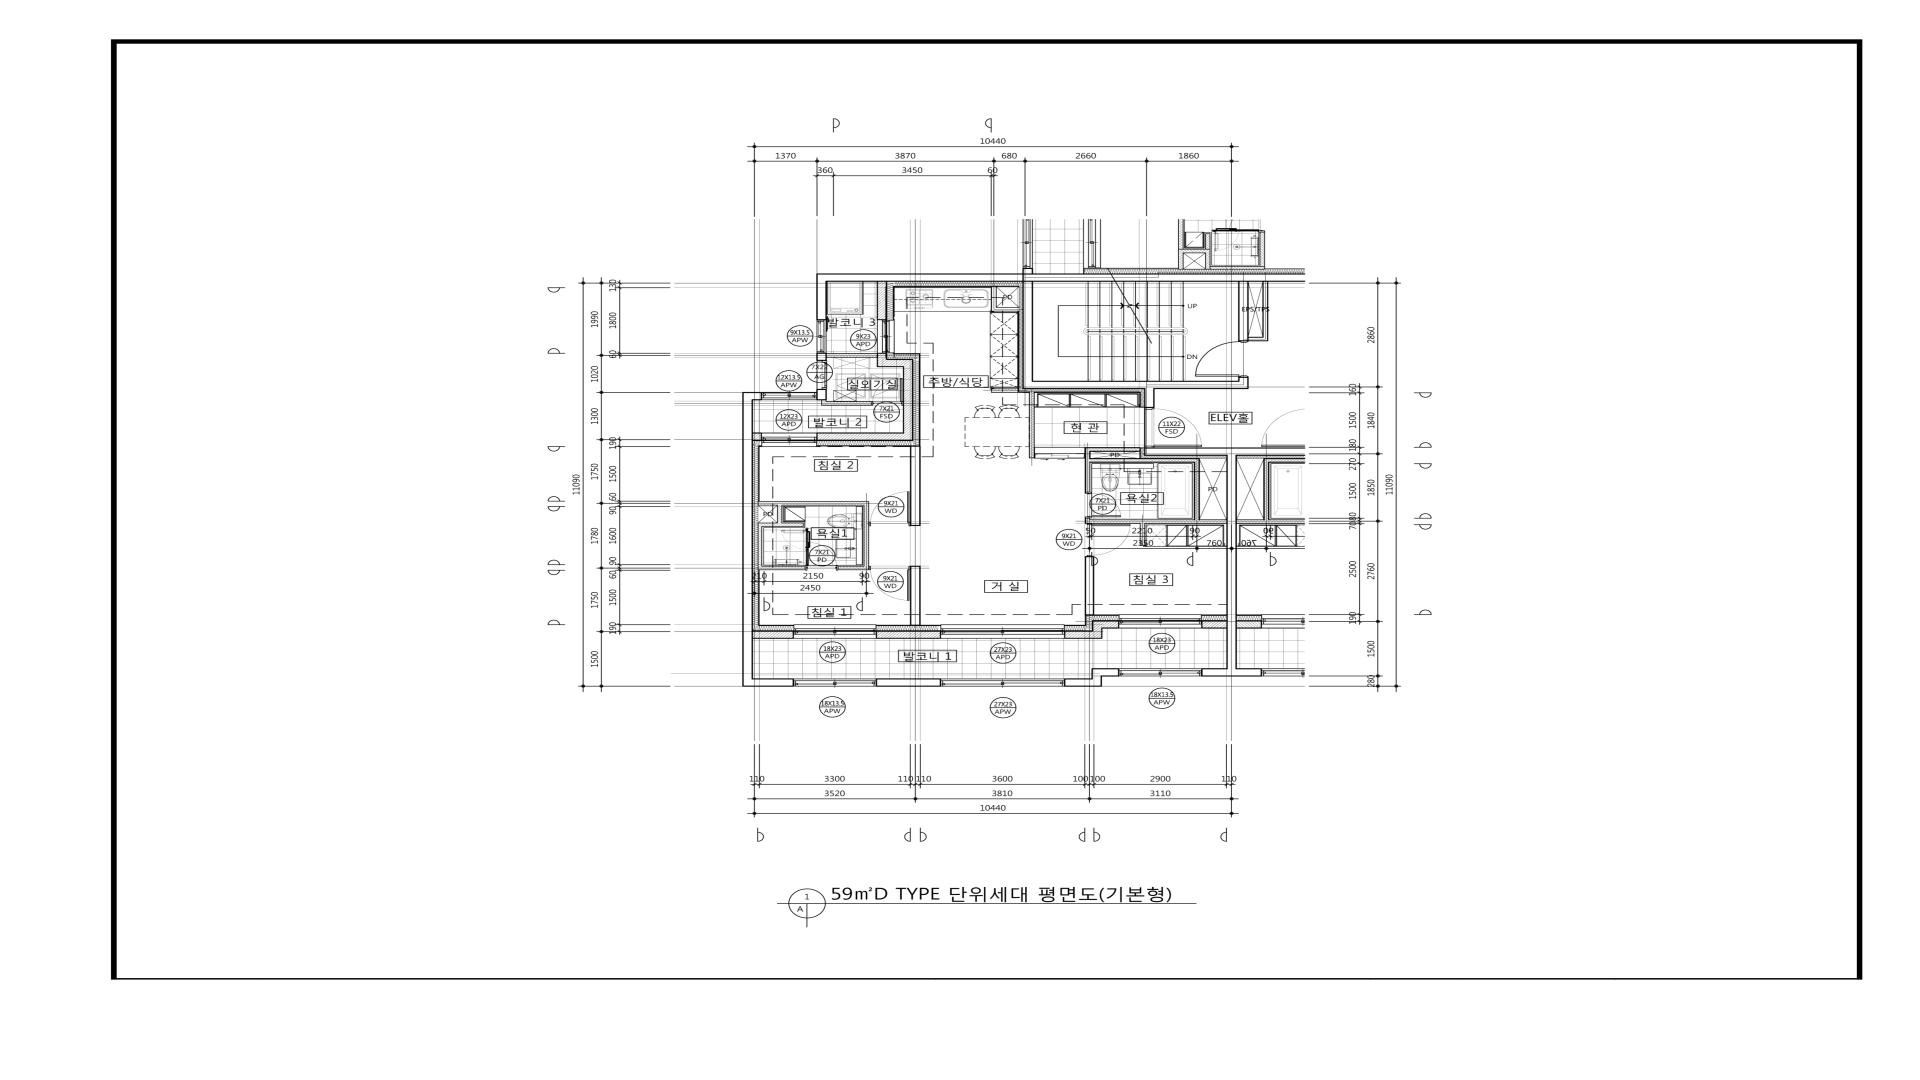door: (1145, 407, 1203, 447), (1195, 342, 1249, 377), (868, 566, 910, 601), (1087, 524, 1131, 556), (869, 492, 910, 526), (806, 542, 839, 571), (1085, 492, 1121, 518), (872, 378, 903, 406), (1034, 454, 1085, 459)
wall: (742, 400, 753, 687), (1022, 273, 1305, 282), (1226, 456, 1237, 676), (827, 273, 1022, 282), (1033, 381, 1249, 389), (1022, 282, 1033, 389), (1145, 447, 1237, 456), (910, 446, 920, 526), (903, 367, 914, 442), (818, 433, 903, 440), (910, 566, 920, 625), (1238, 282, 1249, 342), (876, 678, 942, 687), (1091, 458, 1200, 463), (1091, 520, 1226, 524), (1085, 556, 1095, 615), (877, 630, 940, 638), (816, 273, 827, 320), (1029, 392, 1035, 459), (758, 501, 869, 505), (877, 282, 887, 320), (753, 678, 794, 687), (1193, 463, 1200, 520), (1262, 282, 1269, 336), (1064, 678, 1102, 687), (753, 630, 794, 638), (864, 505, 869, 566), (1064, 630, 1102, 638), (1092, 669, 1120, 679), (1092, 620, 1118, 630), (1091, 447, 1139, 452), (827, 401, 872, 406), (1085, 447, 1091, 492), (887, 359, 914, 367), (1201, 669, 1226, 676), (827, 353, 877, 357), (1201, 620, 1226, 628), (1145, 389, 1155, 407), (758, 566, 806, 570), (758, 522, 762, 566), (877, 352, 887, 368), (762, 522, 803, 526), (742, 392, 762, 400), (1139, 524, 1146, 546), (992, 286, 997, 311), (816, 389, 827, 401), (839, 566, 869, 570), (992, 389, 1018, 393), (1249, 336, 1269, 342), (777, 505, 782, 522), (997, 307, 1019, 311), (816, 353, 827, 360), (753, 433, 761, 440), (1238, 377, 1249, 381), (822, 400, 827, 406), (1085, 518, 1091, 524)
window: (940, 624, 1064, 638), (794, 624, 877, 638), (1118, 615, 1201, 628), (940, 679, 1064, 687), (762, 433, 818, 447), (794, 679, 876, 687), (1120, 669, 1201, 676), (877, 320, 894, 353), (762, 392, 816, 400), (816, 320, 827, 353), (816, 360, 827, 389)
